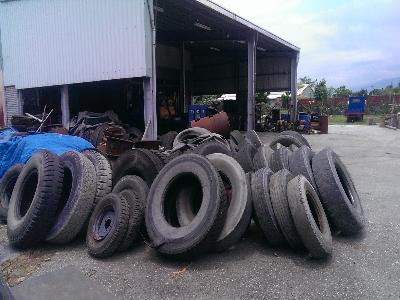tire: (143, 152, 229, 265), (6, 148, 65, 250), (311, 145, 366, 236), (287, 175, 333, 259), (85, 192, 130, 258), (250, 166, 285, 249)
